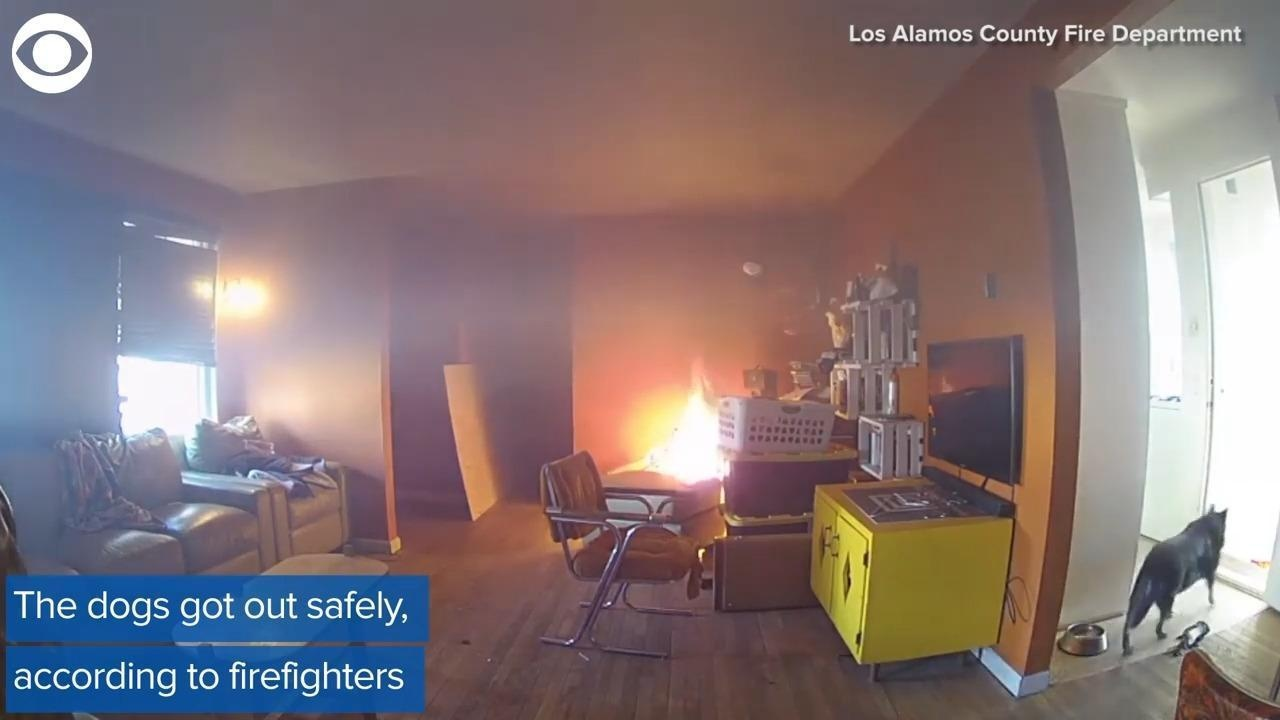fire: (616, 373, 733, 504)
